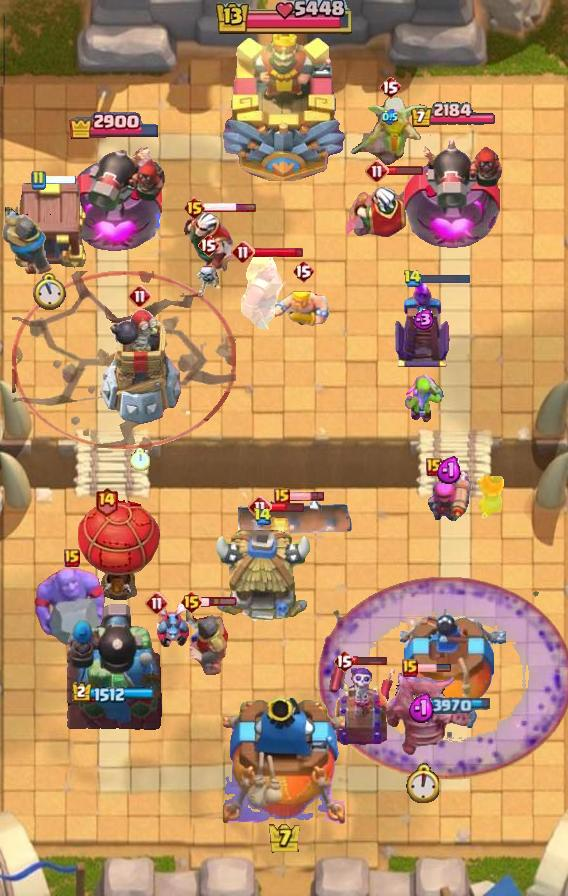archer: (275, 286, 331, 330)
archer-queen: (31, 564, 113, 652)
bomb: (9, 176, 89, 270)
cannon-cart: (78, 498, 162, 600)
clock: (213, 0, 355, 38)
electro-spirit: (408, 693, 436, 724), (436, 456, 463, 485), (410, 309, 435, 331), (382, 109, 398, 125)
elixir: (405, 763, 439, 803), (33, 273, 67, 311), (130, 448, 150, 472)
emote: (253, 245, 304, 259), (419, 272, 471, 285), (203, 203, 257, 214), (201, 596, 239, 608), (270, 501, 305, 513), (388, 164, 425, 175), (287, 490, 324, 501), (352, 654, 387, 665), (416, 663, 452, 673), (43, 175, 77, 185)
firecracker: (0, 207, 52, 276), (186, 608, 229, 677)
goblin-hut: (241, 251, 284, 329)
golemite: (374, 669, 470, 755)
guard: (12, 271, 236, 450)
heal-spirit: (194, 262, 222, 298)
hog-rider: (471, 470, 509, 522)
ice-spirit-evolution: (265, 509, 293, 545)
ice-spirit-evolution-symbol: (392, 277, 452, 369)
king-tower: (220, 21, 348, 181), (223, 698, 345, 826)
minion: (234, 498, 356, 542)
poison: (346, 88, 434, 172)
prince: (211, 530, 313, 626)
queen-tower: (400, 603, 506, 731)
rocket: (318, 576, 568, 780)
royal-delivery: (153, 599, 191, 649)
selected: (67, 110, 160, 139), (411, 102, 498, 129), (72, 682, 156, 704), (413, 694, 493, 714)
skeleton-king: (343, 174, 439, 242), (180, 211, 244, 279)
skeleton-king-bar: (327, 661, 395, 747)
text: (94, 487, 119, 518), (365, 159, 389, 183), (231, 240, 255, 264), (128, 284, 152, 308), (248, 495, 272, 519), (145, 591, 169, 615), (182, 196, 205, 220), (180, 590, 203, 614), (379, 75, 401, 99), (197, 233, 219, 257), (292, 259, 314, 283), (333, 649, 355, 673), (402, 269, 422, 287), (253, 507, 272, 525), (30, 170, 46, 190), (426, 458, 442, 476), (274, 488, 290, 506), (64, 549, 80, 567), (402, 659, 418, 677)
tombstone: (426, 471, 472, 527)
tower-bar: (401, 132, 508, 256), (64, 601, 164, 731), (63, 136, 165, 256)
zap: (402, 372, 444, 424)
zappy: (98, 307, 182, 429)
